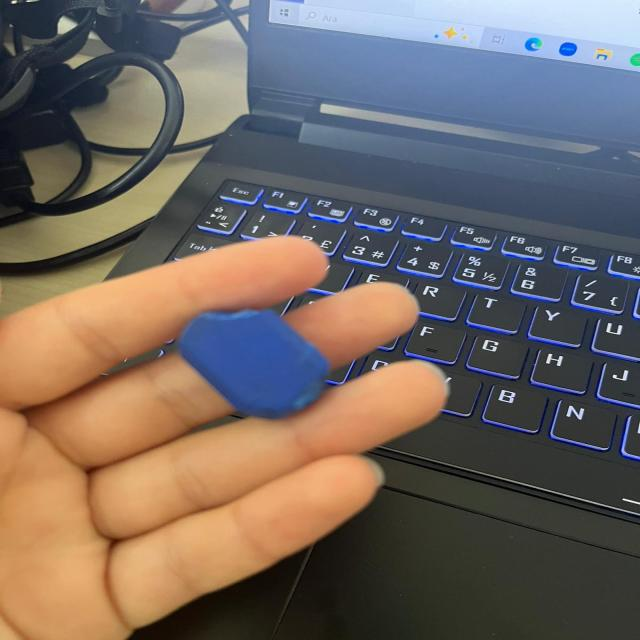eraser: (163, 280, 336, 427)
